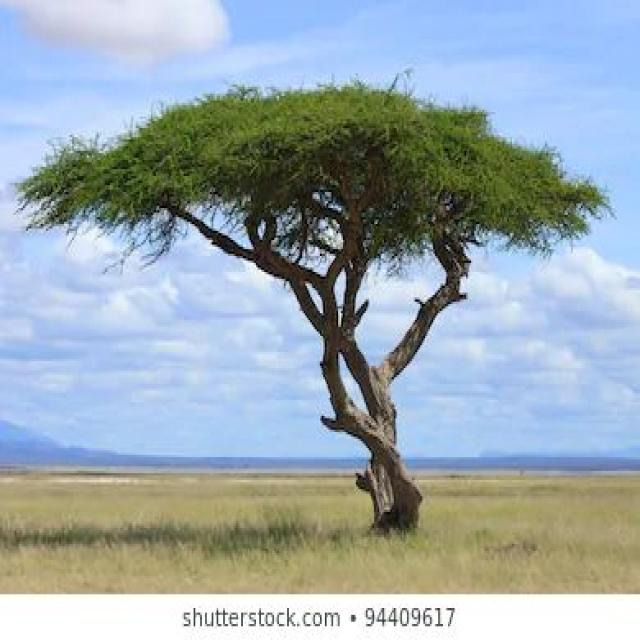Acacia: (41, 87, 602, 390)
